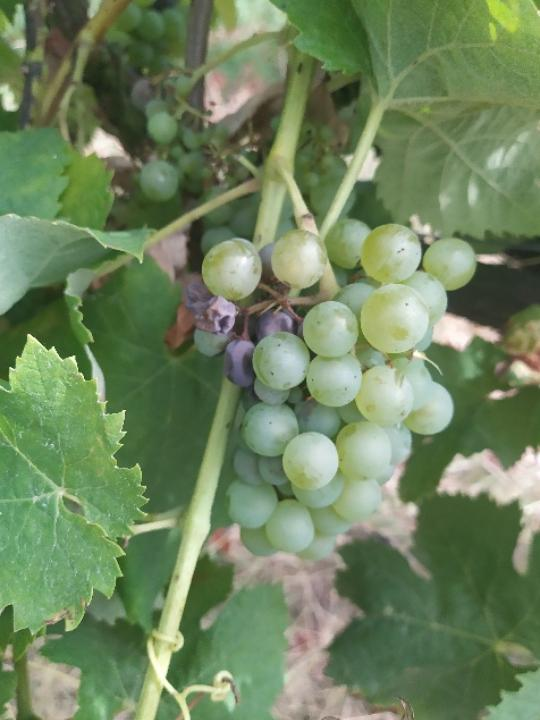grape: (183, 215, 480, 563)
